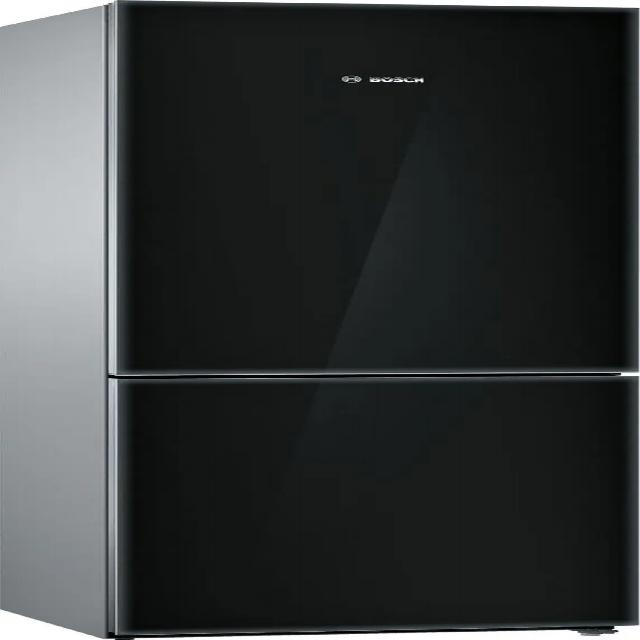refrigerator: (94, 0, 640, 637)
